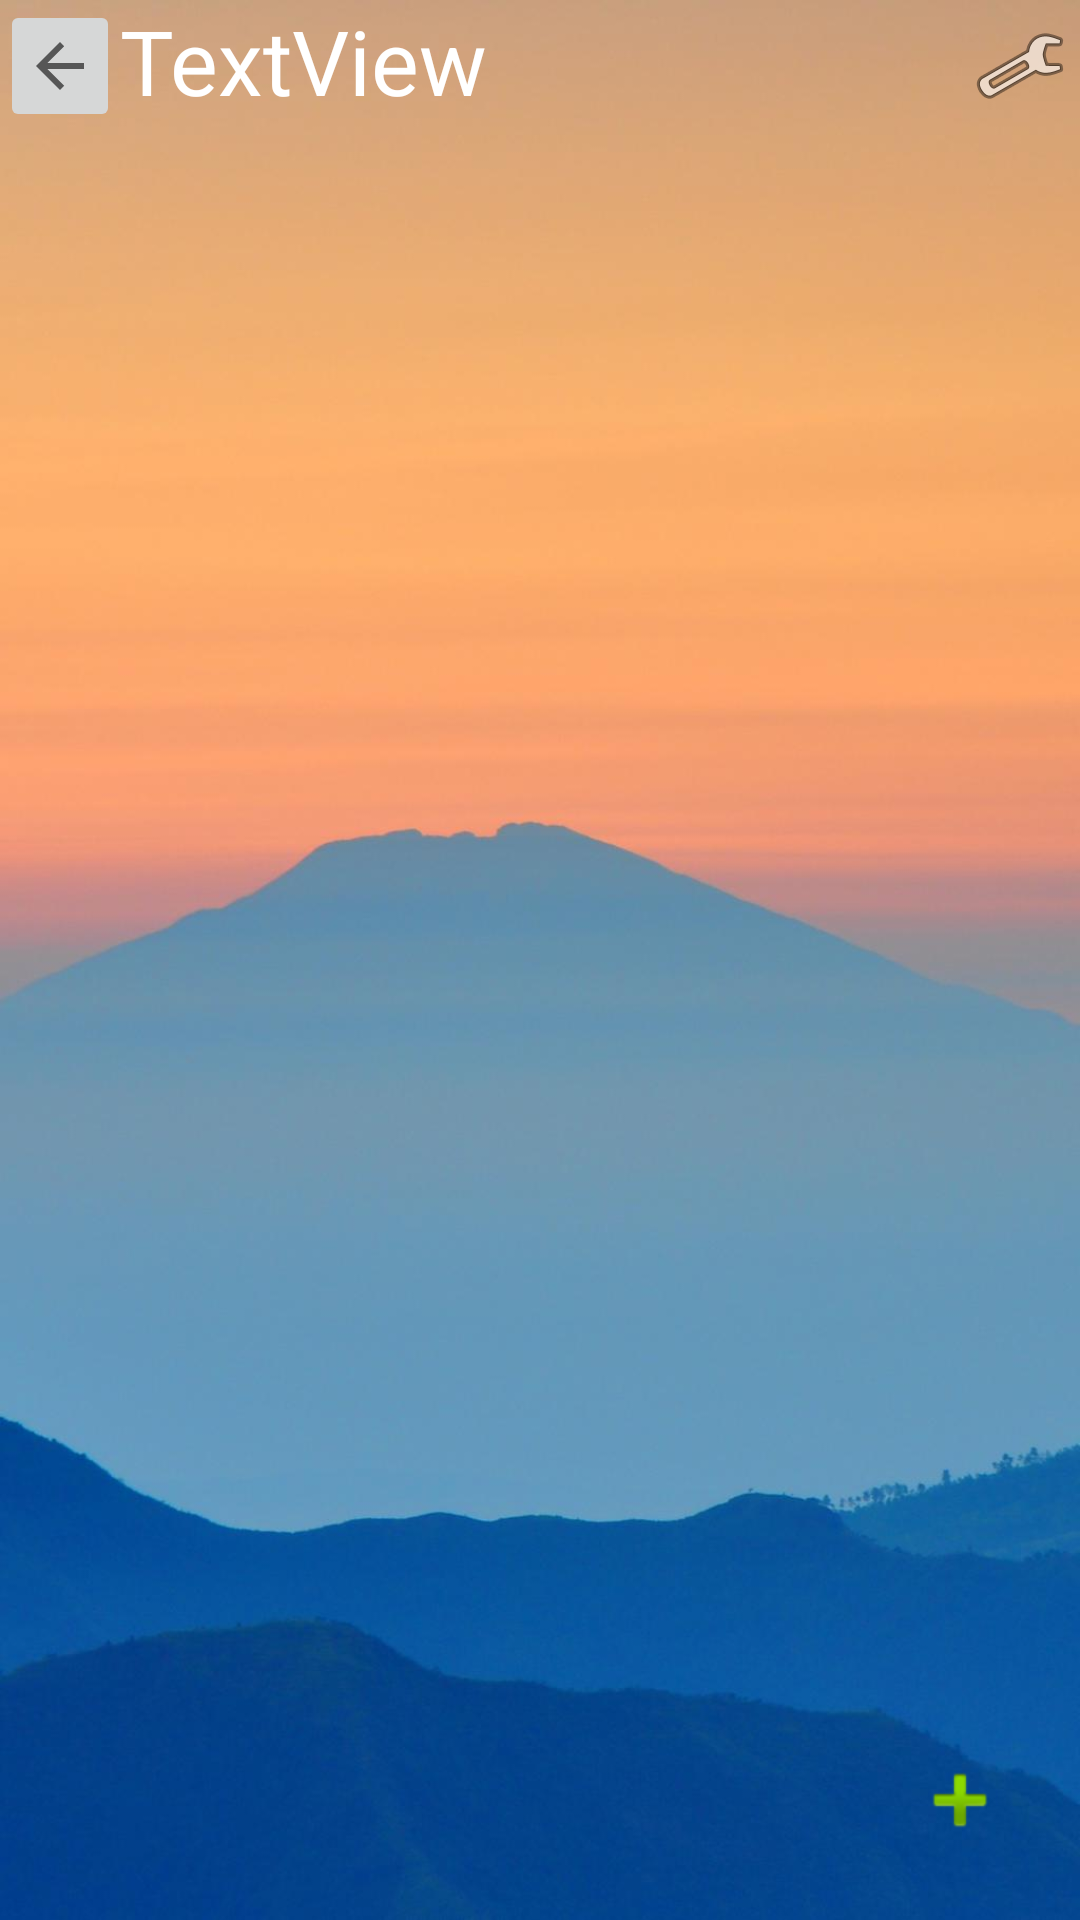

Screen size 1080x1920. Icon name, then its center in pixels as (x,y):
preferences: (1020,66)
